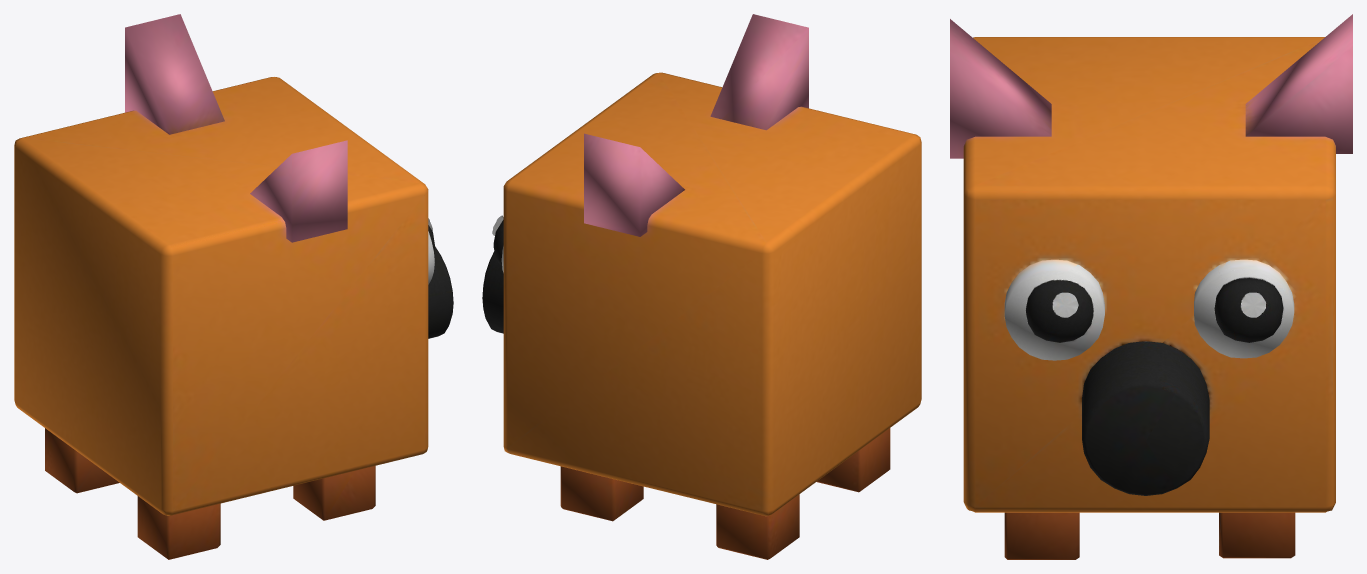
File: tripo_convert_3b356aac-42a1-4b60-ac24-8f1c62a36543.fbx
3 renders of one model, left to right at view 1: azimuth 30°, elevation 25°; view 2: azimuth 150°, elevation 25°; view 3: azimuth 270°, elevation 25°, orthographic. The views are drawn at different scales.
Parts seen in each view (by area): view 1: tripo_node_3b356aac; view 2: tripo_node_3b356aac; view 3: tripo_node_3b356aac.
Part boxes in pixels (bbox=[...]): tripo_node_3b356aac: bbox=[14, 14, 453, 559]; tripo_node_3b356aac: bbox=[482, 14, 921, 559]; tripo_node_3b356aac: bbox=[950, 14, 1352, 559].
Bounding box in the file's own units: 88.09 × 75.2 × 99.8.
